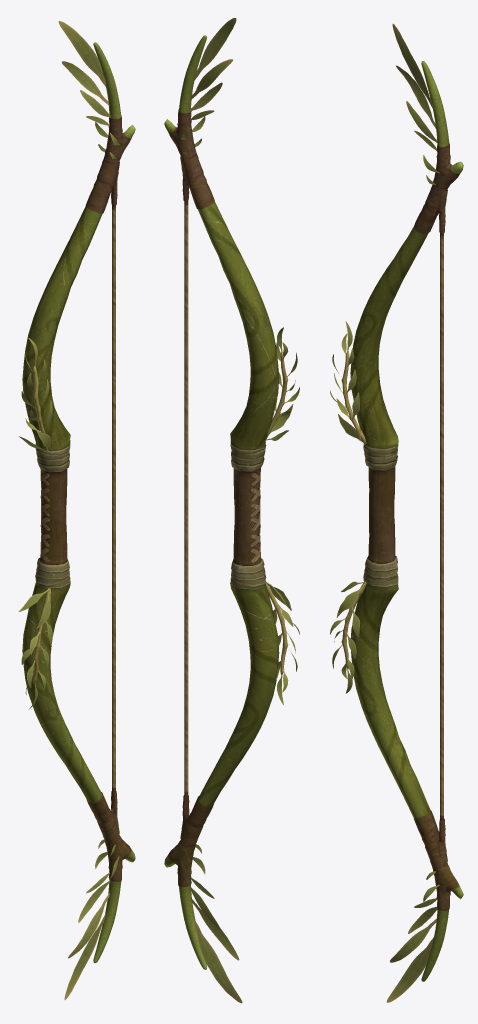
3 views of the same model, side by side, from view 1: azimuth 30°, elevation 25°; view 2: azimuth 150°, elevation 25°; view 3: azimuth 330°, elevation 25° (orthographic).
Parts seen in each view (by area): view 1: SM_Longbow_Willow_2H_01_LOD0; view 2: SM_Longbow_Willow_2H_01_LOD0; view 3: SM_Longbow_Willow_2H_01_LOD0.
Part boxes in pixels (x1,y1,x2,y2): SM_Longbow_Willow_2H_01_LOD0: [18, 21, 135, 999]; SM_Longbow_Willow_2H_01_LOD0: [164, 18, 299, 1003]; SM_Longbow_Willow_2H_01_LOD0: [330, 24, 463, 1002].
Bounding box in the file's own units: 0.3137 × 2.41 × 0.1059.
1 material, 1 textured.
